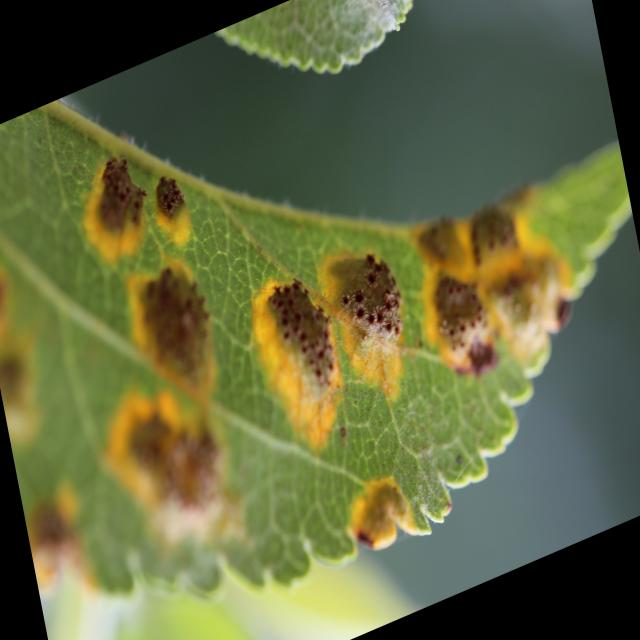Gymnosporangium_Rusts: (24, 106, 640, 612)
